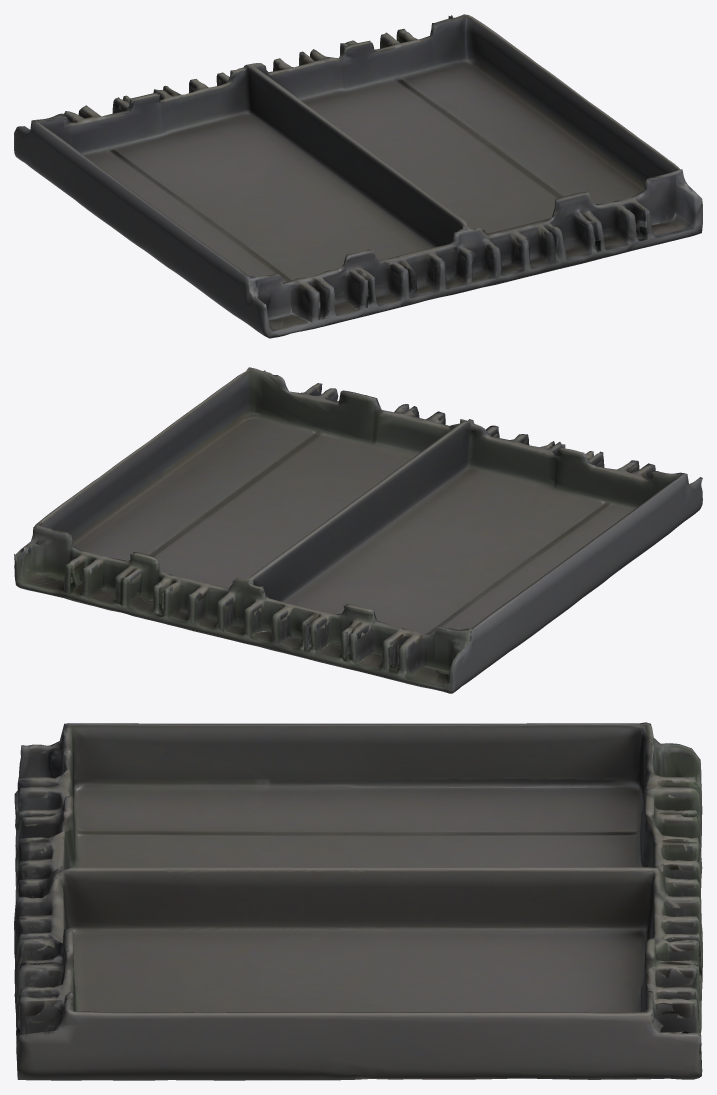
File: Plastic_Storage_Tray_0812041604_texture.fbx
3 views of the same model, one above another, from view 1: azimuth 30°, elevation 25°; view 2: azimuth 150°, elevation 25°; view 3: azimuth 270°, elevation 25° (orthographic). The views are drawn at different scales.
Parts seen in each view (by area): view 1: input; view 2: input; view 3: input.
Part boxes in pixels (x1,y1,x2,y2): input: (14,14,702,338); input: (14,367,702,693); input: (14,722,702,1080).
Size of the model in its own units: 199 by 22.66 by 199.
1 material, 1 textured.
